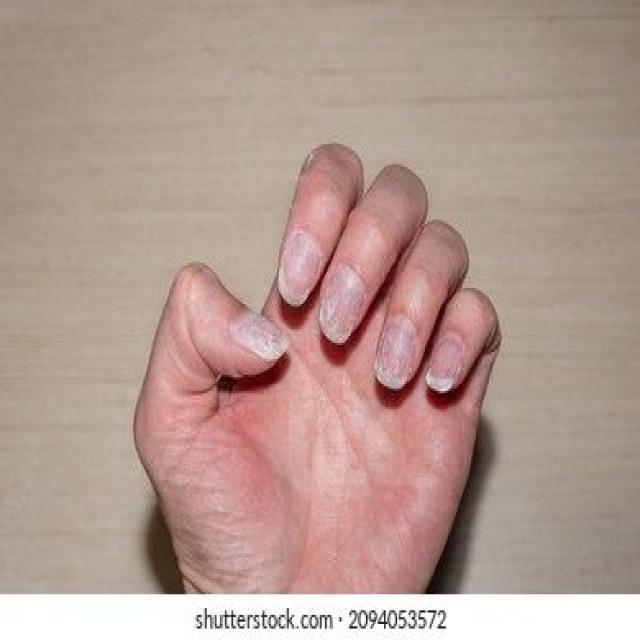Fingernail: (319, 263, 366, 345), (230, 307, 290, 359), (374, 319, 417, 389), (279, 234, 320, 305), (425, 340, 462, 392)
